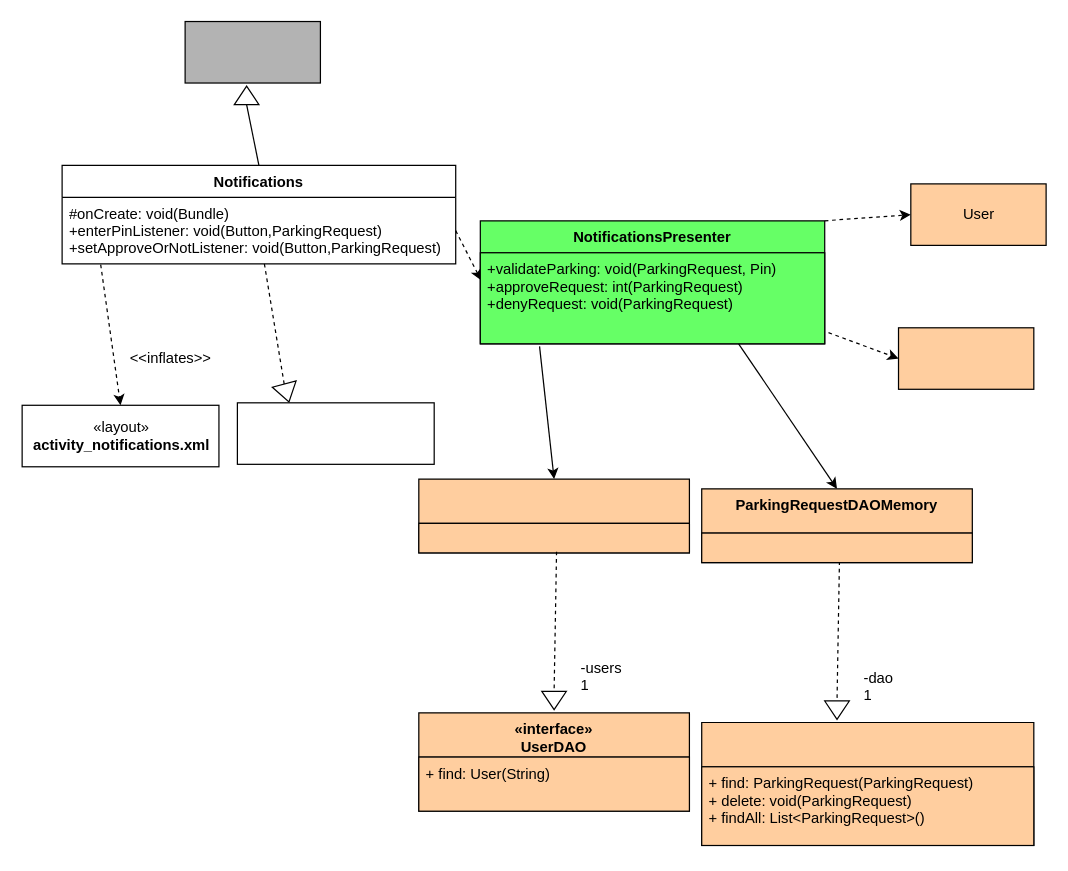
Some shapes in this 1068 by 871 pixel diagram are drawn without their labels. The box of each missing label's shape, as (x1, y1, x2, y2) in pixels:
AppCompatActivity: (184, 20, 320, 83)
ParkingRequest: (897, 327, 1034, 389)
UserDAOMemory: (418, 478, 689, 553)
«interface» Notifications View: (236, 402, 434, 464)
«interface» ParkingRequestDAO: (700, 721, 1034, 846)
